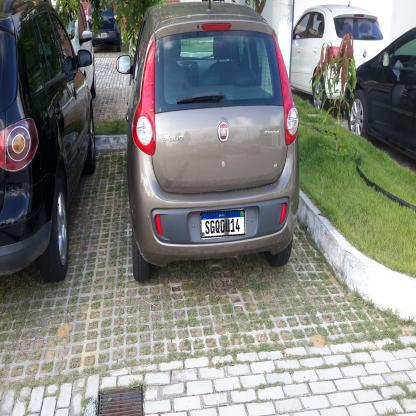PlacaM: (200, 209, 245, 238)
